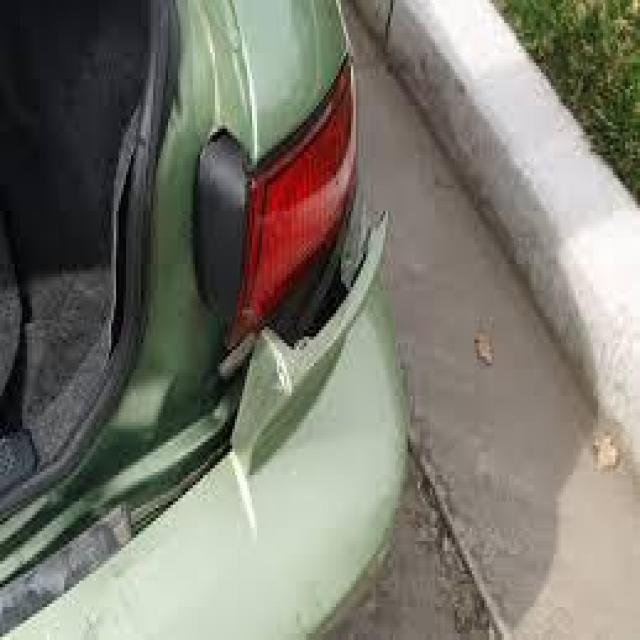damaged: (220, 208, 396, 426)
